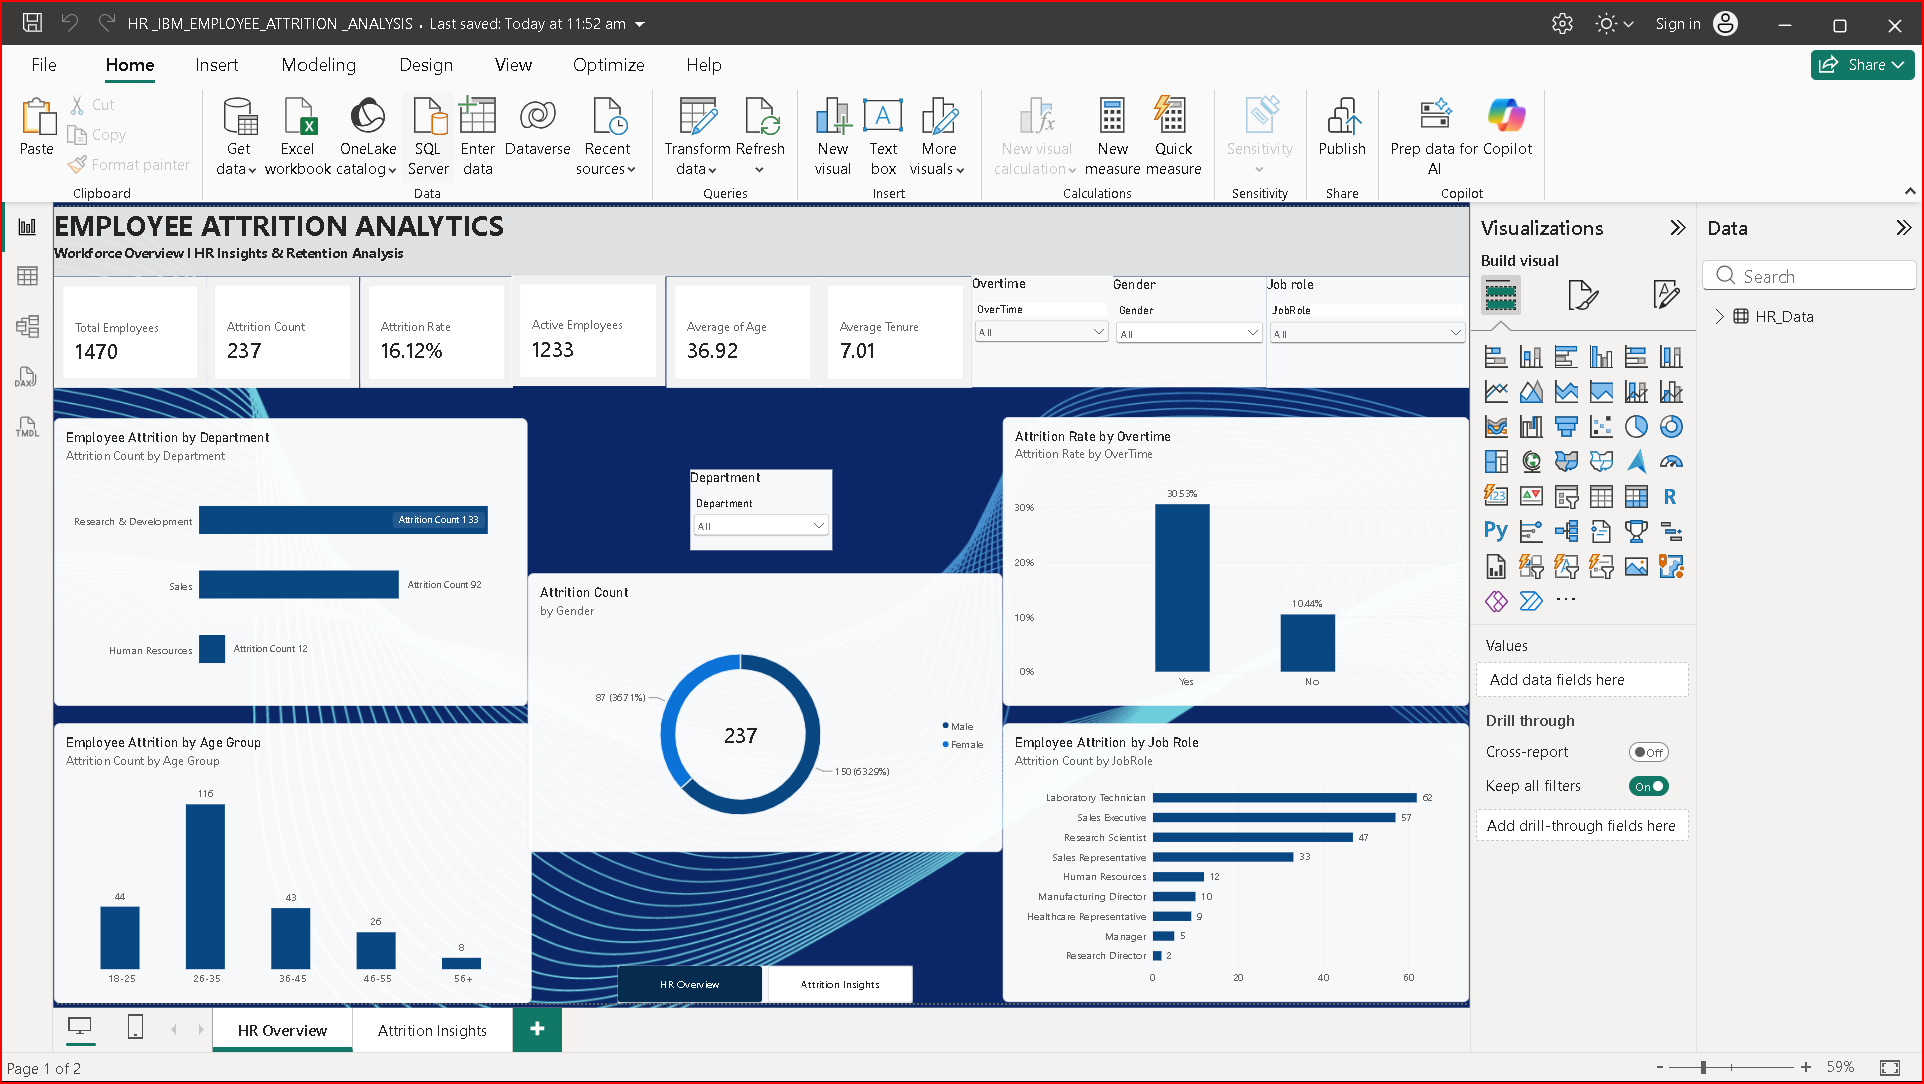

Layout of this report page (visuals, bound fields, positions):
{"tool":"powerbi","page":{"name":"HR Overview","canvas":[1920,1080],"ordinal":0},"visuals":[{"type":"textbox","box":[0,0,1920.4,94.2],"z":0},{"type":"cardVisual","fields":{"Data":["HR_Data.Total Employees"]},"box":[0,94.2,207.6,150],"z":1000},{"type":"cardVisual","fields":{"Data":["HR_Data.Attrition Count"]},"box":[207.6,94.2,207.6,150],"z":2000},{"type":"cardVisual","fields":{"Data":["HR_Data.Attrition Rate"]},"box":[415.1,94.2,207.6,150],"z":3000},{"type":"cardVisual","fields":{"Data":["HR_Data.Active Employees"]},"box":[621.4,93.7,208.9,149.5],"z":4000},{"type":"cardVisual","fields":{"Data":["Avg(HR_Data.Age)"]},"box":[830.2,94.2,207.6,150],"z":5000},{"type":"cardVisual","fields":{"Data":["Avg(HR_Data.YearsAtCompany)"]},"box":[1037.8,94.2,207.6,150],"z":6000},{"type":"clusteredBarChart","title":"Employee Attrition by Department","fields":{"Category":["HR_Data.Department"],"Y":["HR_Data.Attrition Count"]},"box":[0,286.6,642.8,390.1],"z":7000},{"type":"clusteredColumnChart","title":"Employee Attrition by Age Group","fields":{"Category":["HR_Data.Age Group"],"Y":["HR_Data.Attrition Count"]},"box":[0,700.1,647.9,379.9],"z":8000},{"type":"donutChart","fields":{"Category":["HR_Data.Gender"],"Y":["HR_Data.Attrition Count"]},"box":[643.6,497.1,643.6,378.5],"z":9000},{"type":"clusteredBarChart","title":"Employee Attrition by Job Role","fields":{"Category":["HR_Data.JobRole"],"Y":["HR_Data.Attrition Count"]},"box":[1287.2,701.2,633.1,378.5],"z":9001},{"type":"clusteredColumnChart","title":"Attrition Rate by Overtime","fields":{"Category":["HR_Data.OverTime"],"Y":["HR_Data.Attrition Rate"]},"box":[1287.3,284.9,632.6,391.8],"z":9002},{"type":"slicer","title":"Department","fields":{"Values":["HR_Data.Department"]},"box":[862.7,356.6,192.7,109.9],"z":9003},{"type":"slicer","title":"Gender","fields":{"Values":["HR_Data.Gender"]},"box":[1436.5,95,208.6,149.2],"z":9004},{"type":"slicer","title":"Job role","fields":{"Values":["HR_Data.JobRole"]},"box":[1644.8,94.2,275.6,150],"z":9005},{"type":"slicer","title":"Overtime","fields":{"Values":["HR_Data.OverTime"]},"box":[1244.9,93.3,191.6,150.9],"z":9006},{"type":"pageNavigator","box":[765.5,1030.2,400,50],"z":9007}]}

Visuals, with their boxes on the page's 1920x1080 design canvas (x1, y1, x2, y2). These are canvas units, not pixel positions in the 1924x1084 screenshot, which may show the page scaled, cropped or inside an application window:
textbox: crop(0, 0, 1920, 94)
cardVisual - HR_Data.Total Employees: crop(0, 94, 208, 244)
cardVisual - HR_Data.Attrition Count: crop(208, 94, 415, 244)
cardVisual - HR_Data.Attrition Rate: crop(415, 94, 623, 244)
cardVisual - HR_Data.Active Employees: crop(621, 94, 830, 243)
cardVisual - Avg(HR_Data.Age): crop(830, 94, 1038, 244)
cardVisual - Avg(HR_Data.YearsAtCompany): crop(1038, 94, 1245, 244)
"Employee Attrition by Department" clusteredBarChart: crop(0, 287, 643, 677)
"Employee Attrition by Age Group" clusteredColumnChart: crop(0, 700, 648, 1080)
donutChart - HR_Data.Gender x HR_Data.Attrition Count: crop(644, 497, 1287, 876)
"Employee Attrition by Job Role" clusteredBarChart: crop(1287, 701, 1920, 1080)
"Attrition Rate by Overtime" clusteredColumnChart: crop(1287, 285, 1920, 677)
"Department" slicer: crop(863, 357, 1055, 466)
"Gender" slicer: crop(1436, 95, 1645, 244)
"Job role" slicer: crop(1645, 94, 1920, 244)
"Overtime" slicer: crop(1245, 93, 1436, 244)
pageNavigator: crop(766, 1030, 1166, 1080)
